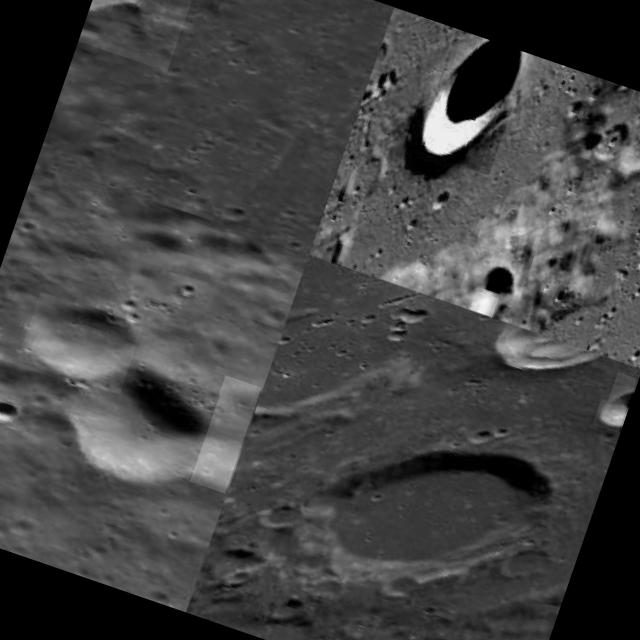crater: (310, 404, 559, 621), (55, 352, 219, 501), (414, 29, 530, 174), (17, 292, 142, 394), (487, 321, 621, 401), (77, 0, 210, 71), (188, 374, 261, 494), (466, 258, 524, 322), (592, 370, 636, 432), (0, 395, 21, 429)
